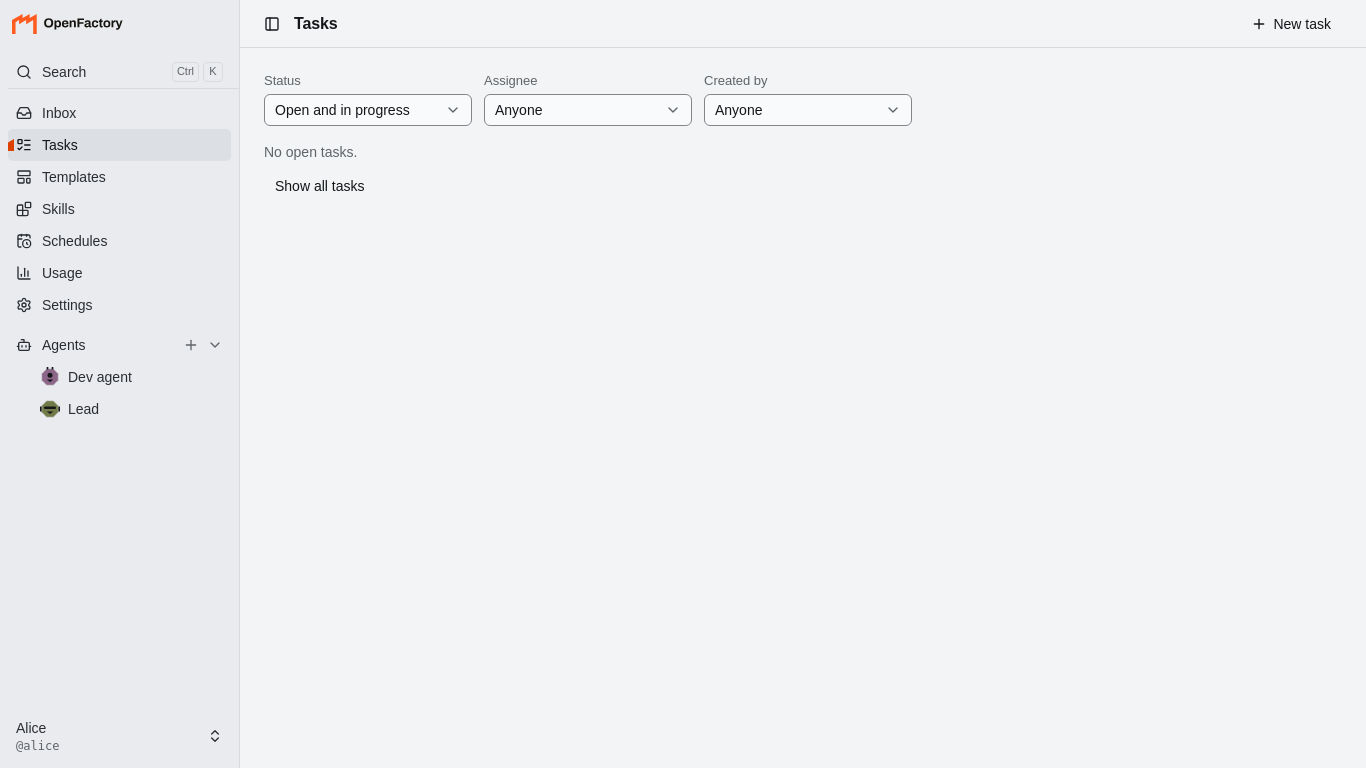
Scenario: empty on the default filter offers all tasks; then 'No tasks yet.'
Expected: the text "No open tasks." is shown, [264, 142, 357, 162]
What coordinates should you click on to do the following:
click the button "Show all tasks"
I would click on:
 (320, 186)
Its box is [264, 170, 376, 202].
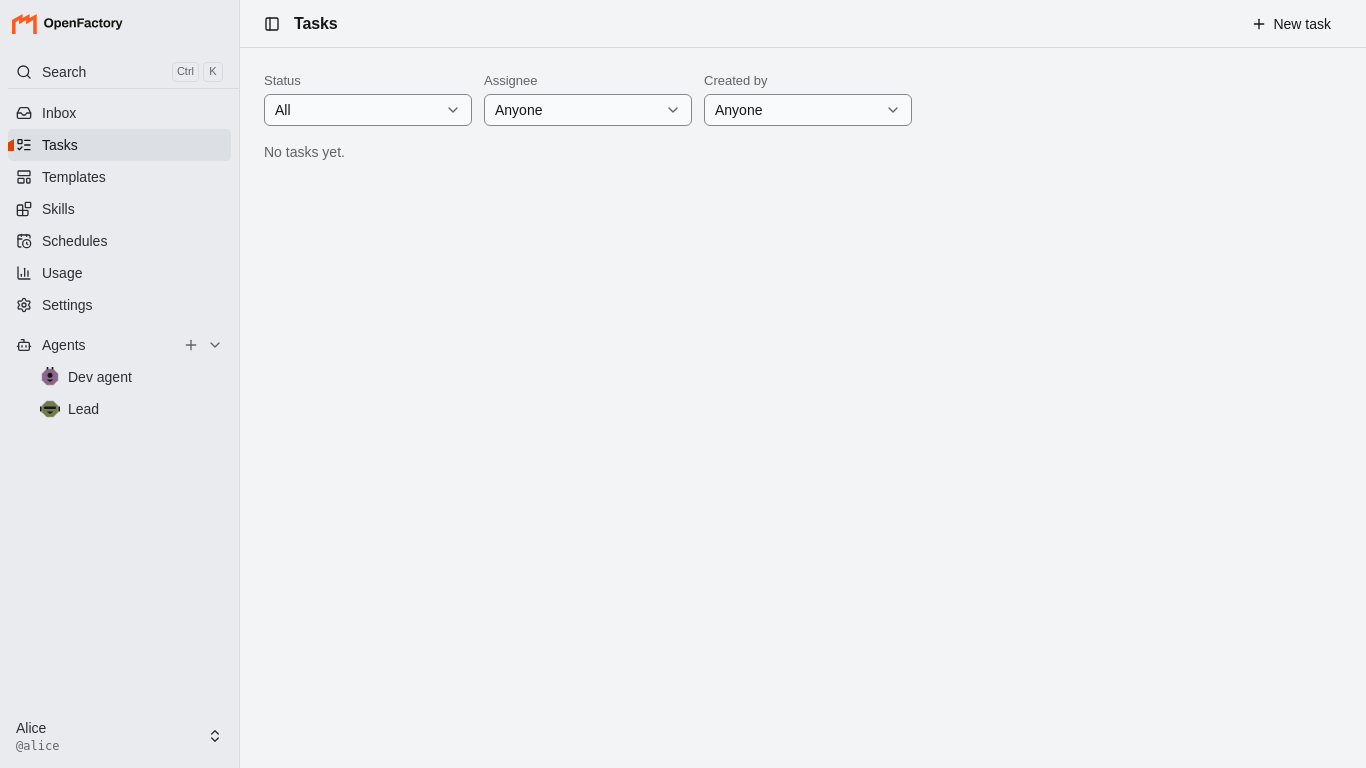
Expected: the text "No tasks yet." is shown, [264, 144, 345, 160]
